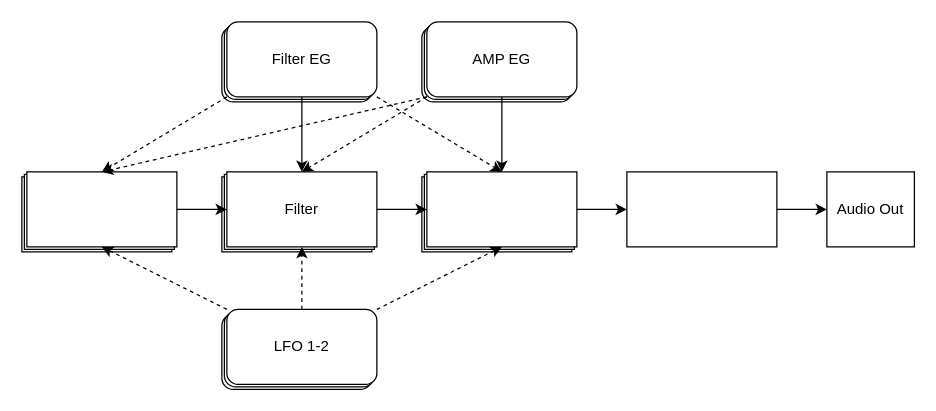
Some shapes in this 936 by 411 pixel diagram are drawn without their labels. The shapes that lost their labels are listed below. From the top down, each one's centre as x and y in pixels, then its label:
At (101,209): "Oscillator 1 Oscillator 2 Noise".
At (501,209): "AMP".
At (701,209): "Master Effects".
